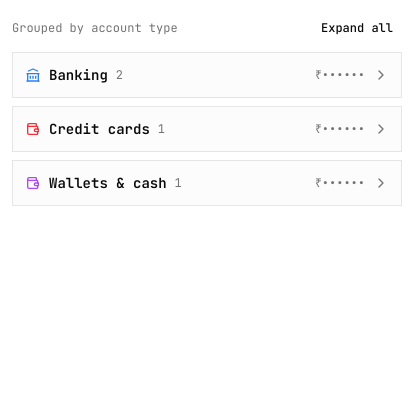
AccountList › starts collapsed and reveals a group's accounts and total when expanded
Expected: the text "Primary checking" is not shown
Click the button "Banking 2 ₹••••••": (78, 75) [13,53,401,97]
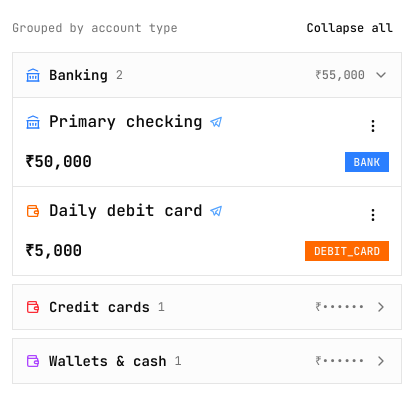
Now the text "Primary checking" is shown 2 times
Now the button "Banking 2 ₹55,000" is expanded, box [13,53,401,97]
Now the button "Banking 2 ₹55,000" is shown, box [13,53,401,97]
